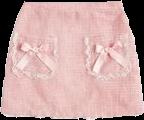Hemline: (0, 112, 143, 119)
Waistline: (24, 1, 121, 7)
